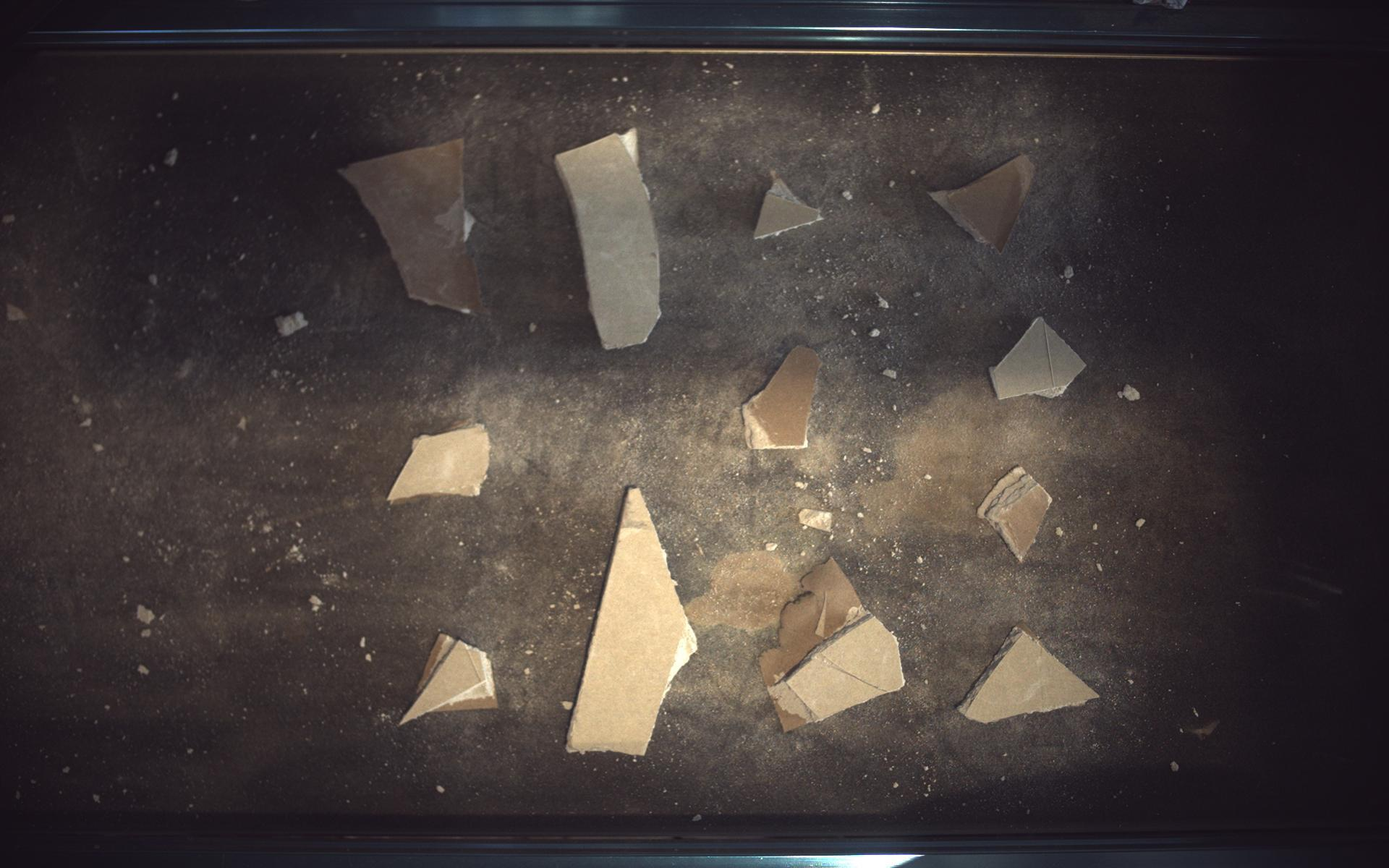gypsum_board: (567, 488, 698, 757), (762, 558, 906, 732), (339, 138, 481, 311), (556, 128, 661, 349), (959, 625, 1101, 724), (931, 153, 1037, 252), (399, 634, 498, 726), (743, 346, 822, 449), (992, 317, 1088, 400), (388, 425, 490, 503), (980, 466, 1055, 562), (755, 169, 825, 238)
